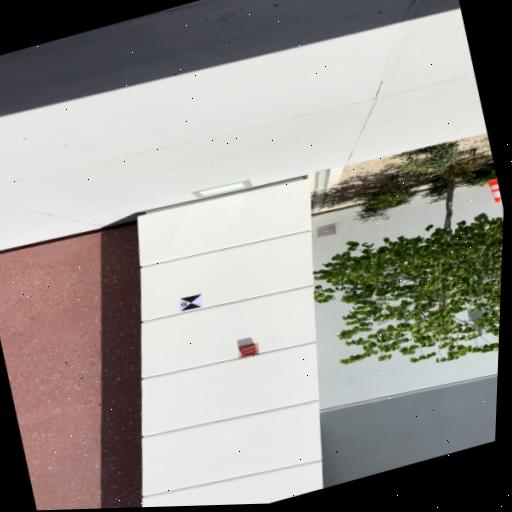target6: (179, 293, 202, 311)
